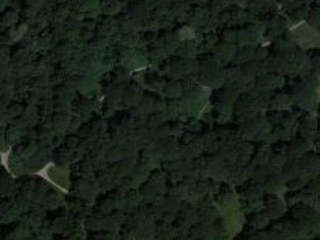Tree: (95, 70, 141, 108), (163, 65, 209, 103), (128, 107, 174, 145), (70, 135, 116, 173), (132, 150, 178, 188), (189, 151, 235, 189), (227, 137, 273, 175), (238, 88, 284, 126), (235, 45, 281, 83), (49, 46, 95, 84), (23, 86, 69, 124), (247, 199, 293, 237)
